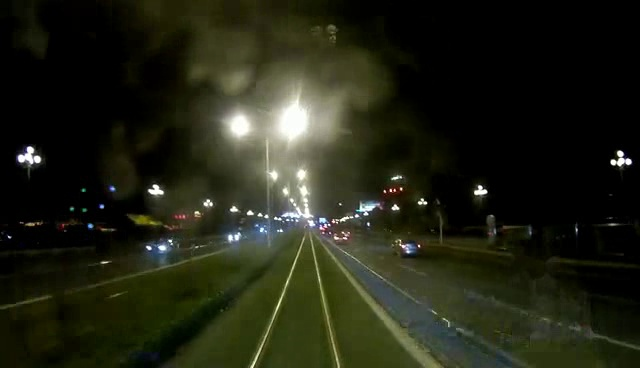car: (394, 236, 425, 260), (143, 237, 184, 255)
